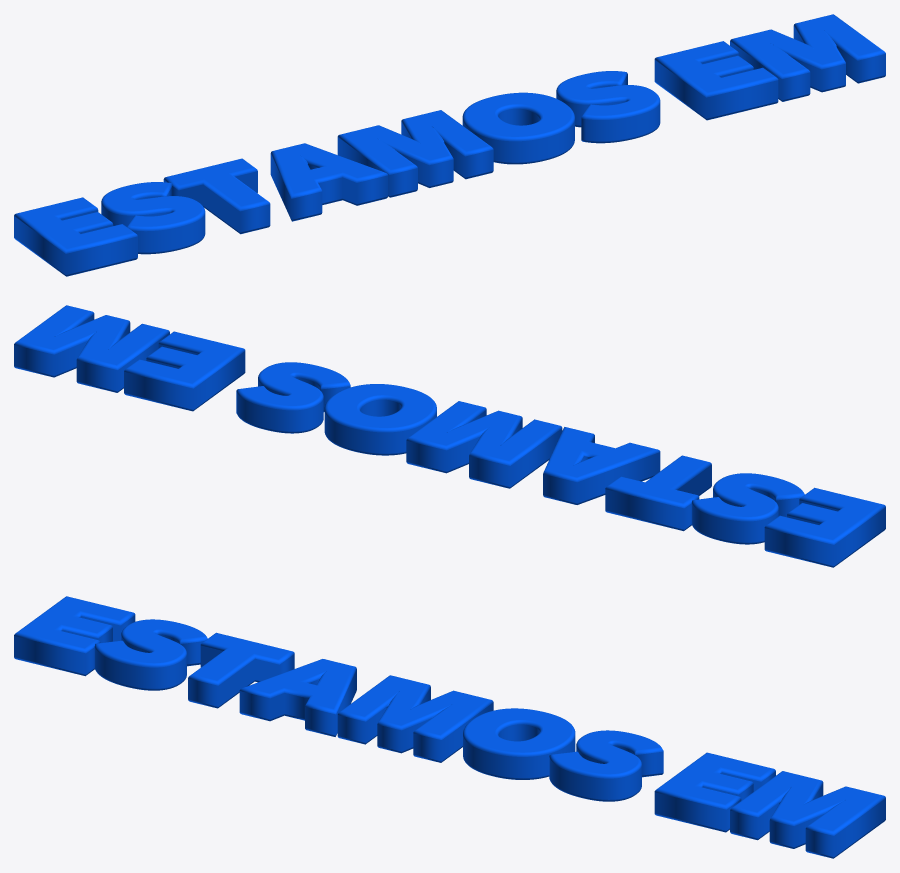
3 views of the same model, one above another, from view 1: azimuth 30°, elevation 25°; view 2: azimuth 150°, elevation 25°; view 3: azimuth 330°, elevation 25° (orthographic).
Parts seen in each view (by area): view 1: Text1; view 2: Text1; view 3: Text1.
Part boxes in pixels (x1,y1,x2,y2): Text1: [14, 14, 885, 276]; Text1: [14, 305, 885, 567]; Text1: [14, 596, 885, 858].
Bounding box in the file's own units: 5.67 × 0.18 × 0.6384.
